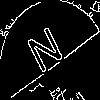N: (25, 25, 69, 83)
